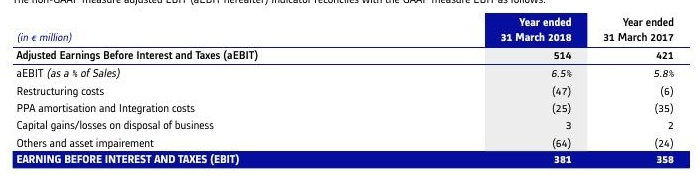table: (0, 0, 700, 179)
